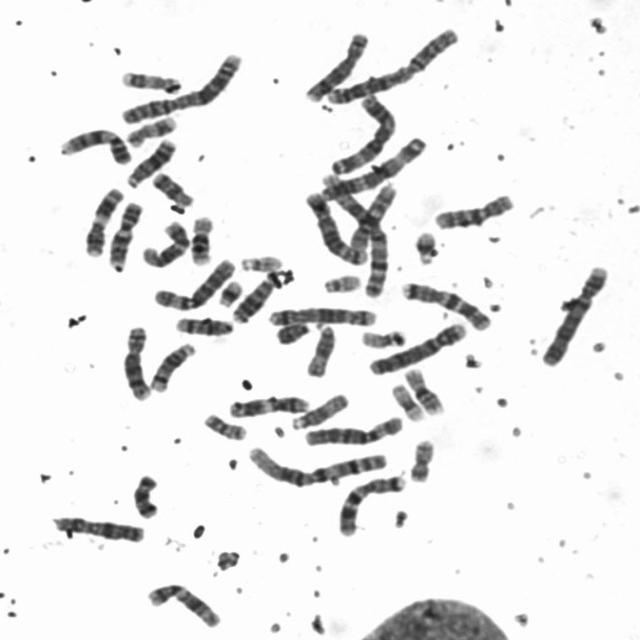A1: (318, 168, 390, 299), (242, 440, 389, 488)
A2: (320, 22, 463, 107), (116, 47, 246, 126)
A3: (314, 131, 430, 202), (326, 88, 400, 176)
B4: (536, 259, 612, 368), (364, 318, 470, 377)
B5: (300, 187, 369, 267), (264, 302, 378, 328)
C10: (344, 179, 400, 252), (430, 189, 518, 231)
C11: (80, 182, 125, 258), (223, 391, 311, 419)
C12: (143, 577, 225, 630), (138, 216, 192, 268)
C6: (148, 255, 237, 312), (301, 410, 406, 448)
C7: (396, 276, 494, 332), (334, 469, 410, 538)
C8: (300, 26, 372, 103), (117, 322, 154, 402)
C9: (55, 124, 133, 166), (104, 198, 146, 272)
D13: (228, 266, 293, 325), (122, 134, 179, 190)
D14: (146, 339, 199, 393), (170, 312, 237, 338)
D15: (286, 389, 351, 431), (302, 320, 338, 379)
E16: (399, 364, 448, 416), (185, 211, 217, 266)
E17: (122, 110, 180, 149), (117, 66, 185, 96)
E18: (148, 168, 196, 208), (128, 470, 162, 520)
F19: (386, 380, 427, 422), (358, 324, 408, 355)
F20: (405, 434, 439, 484), (199, 409, 249, 442)
G21: (410, 227, 442, 266), (214, 276, 244, 308)
G22: (319, 269, 363, 295), (237, 250, 284, 273)
X: (48, 511, 148, 544)
Y: (272, 318, 312, 346)
